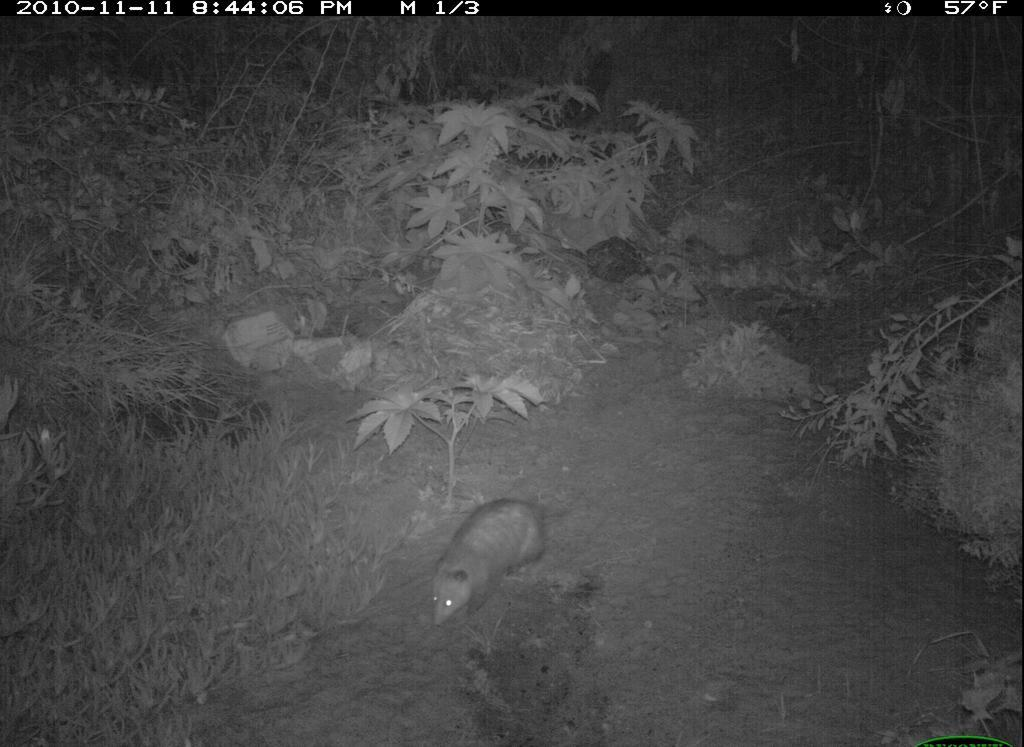opossum: (420, 479, 621, 640)
